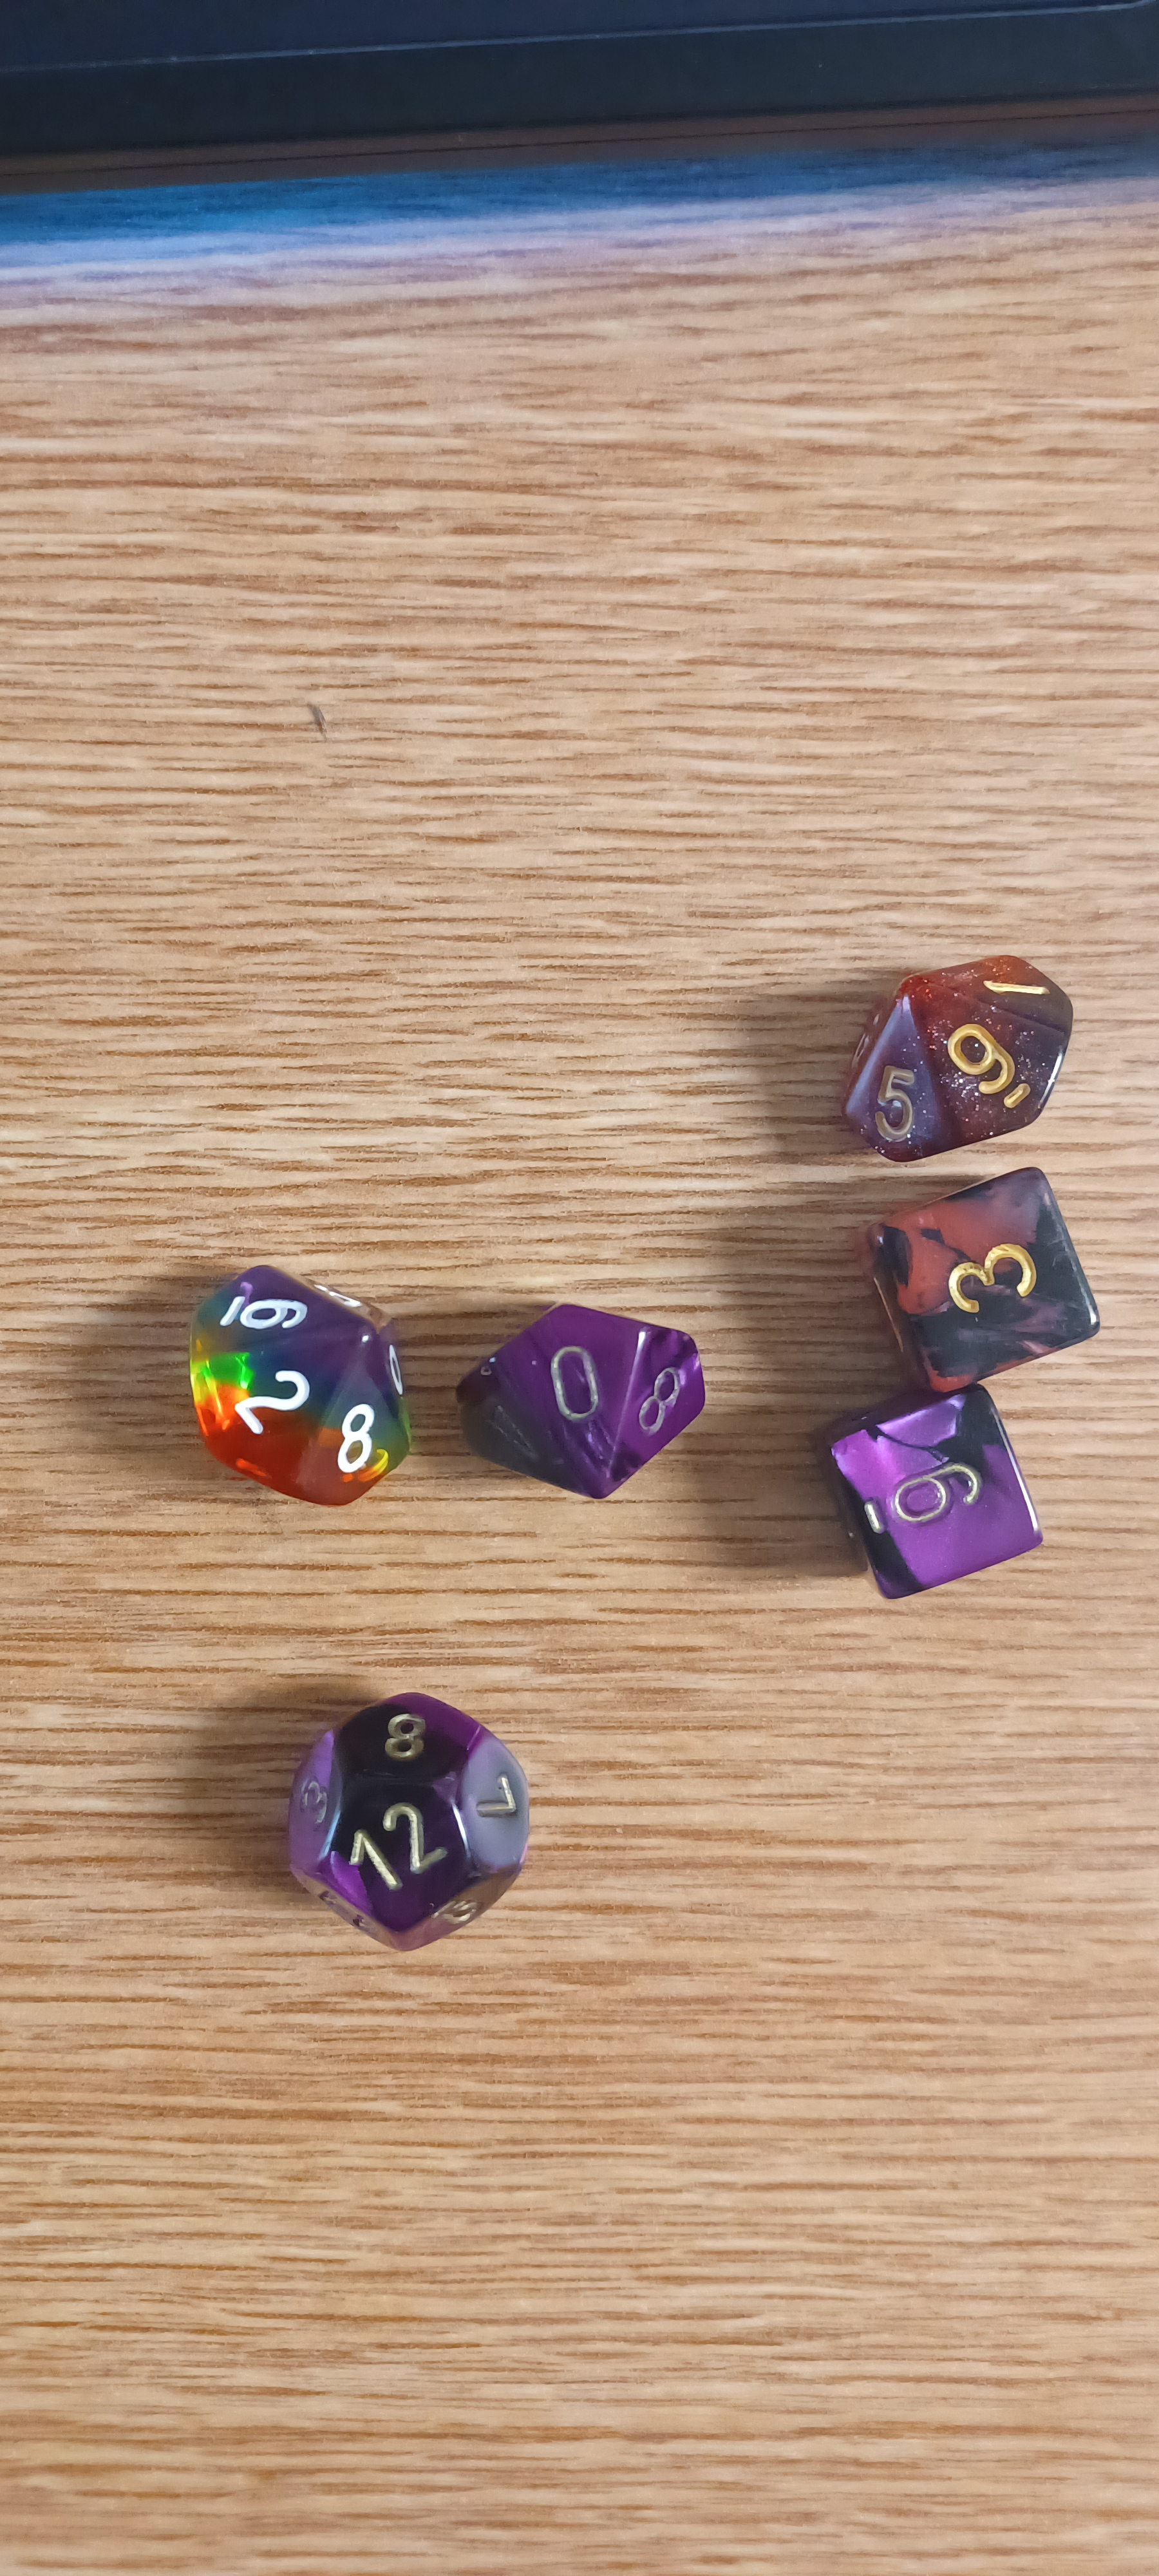nine: (804, 935, 1106, 1181)
six: (791, 1368, 1067, 1618)
three: (831, 1150, 1118, 1400)
twelve: (261, 1671, 575, 1968)
two: (149, 1249, 438, 1520)
zero: (438, 1280, 732, 1518)
